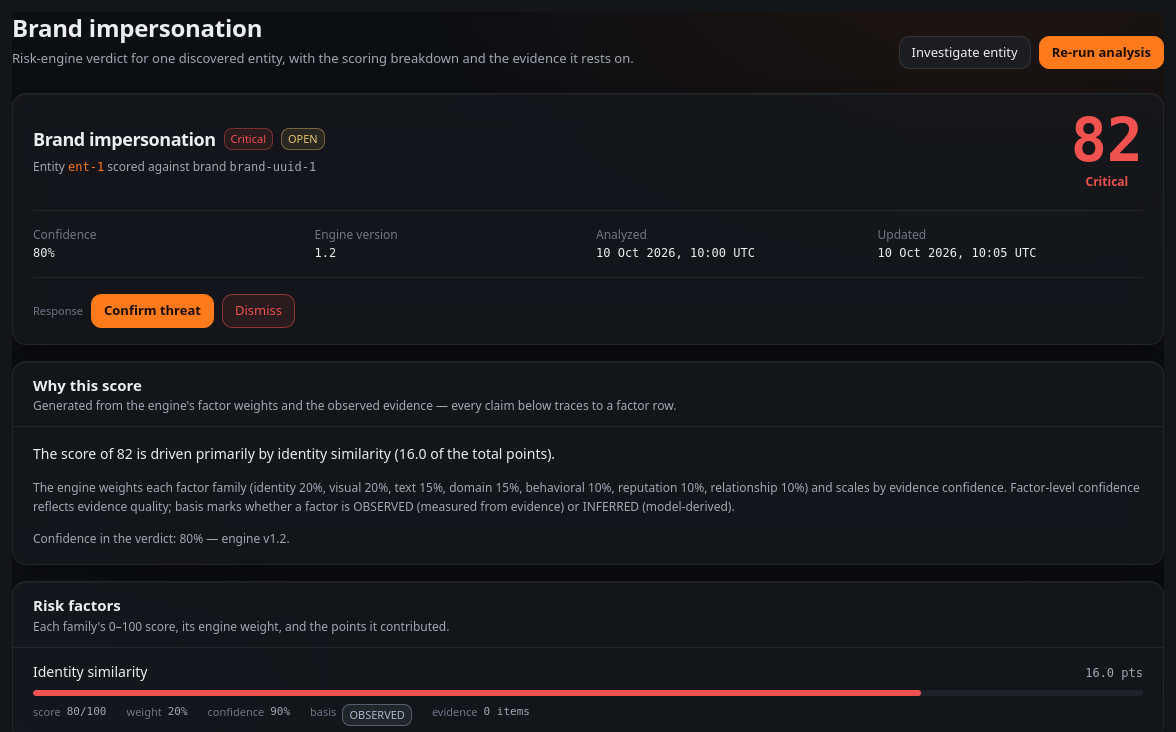
Test case: ThreatDetail status confirmation › requires an explicit confirmation step, then confirms and toasts
Click the button "Confirm threat" at (152, 311), box [91,294,214,328]
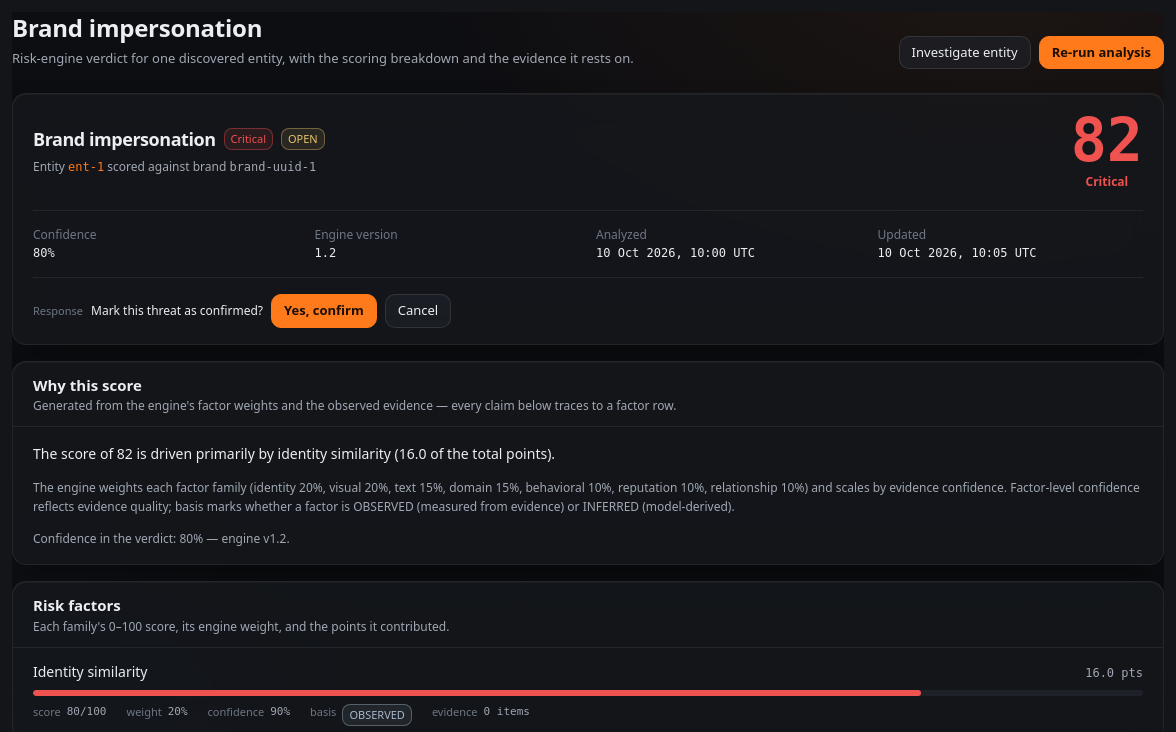
Expected: the text "Mark this threat as confirmed?" is shown, [91,303,263,319]
Expected: the button "Yes, confirm" is shown
Click the button "Yes, confirm" at (324, 311), box [271,294,377,328]
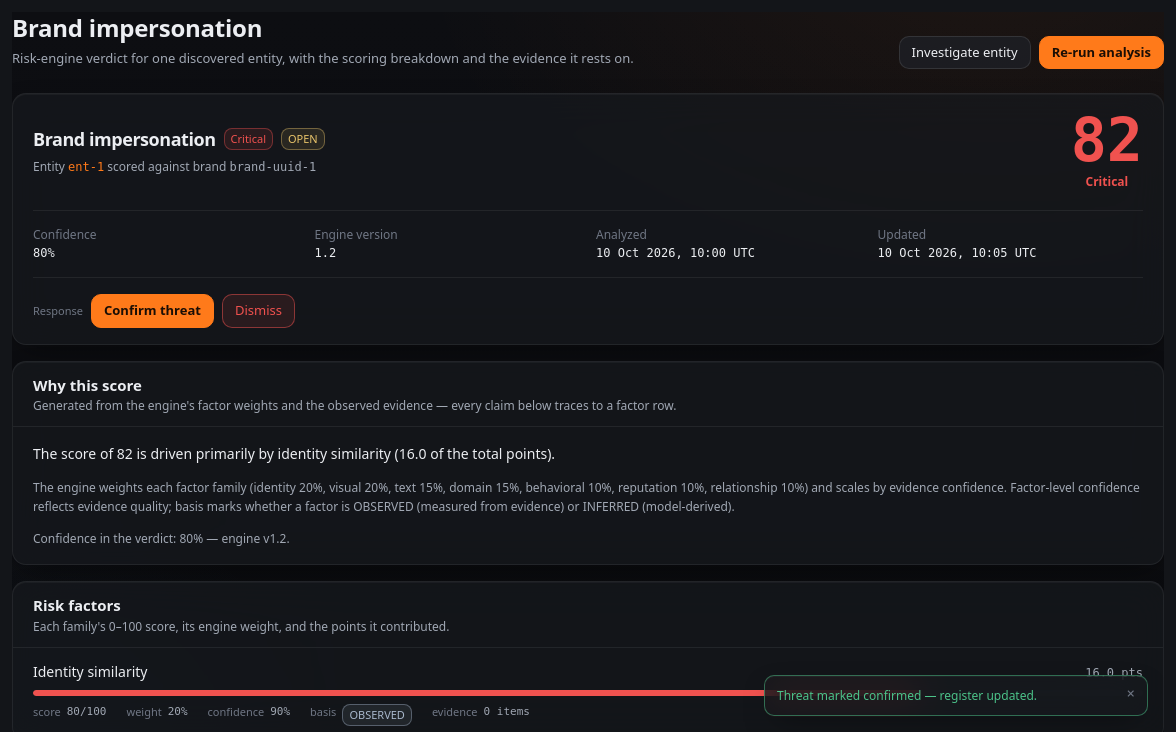
Expected: the message shows "marked confirmed", [777,686,1037,704]
